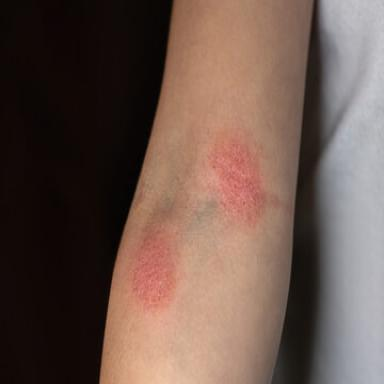Tinea-Corporis: (210, 138, 265, 227), (132, 225, 179, 310)
